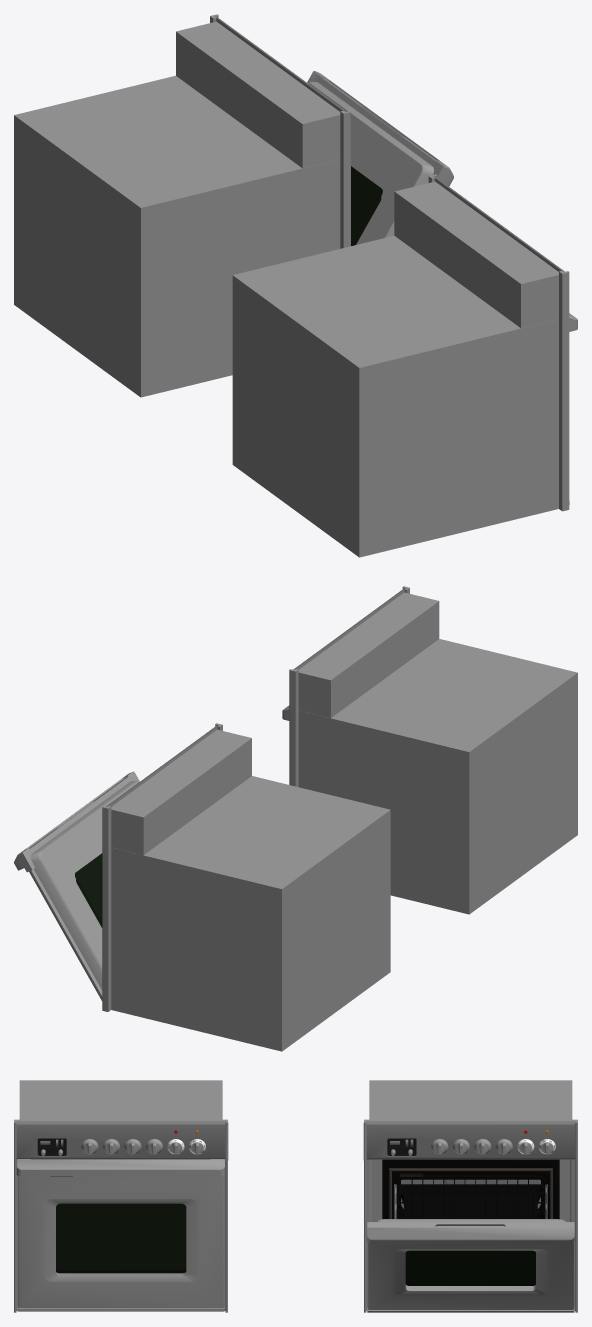
File: wash.FBX
The picture shows the model from 3 angles, top to bottom: view 1: azimuth 30°, elevation 25°; view 2: azimuth 150°, elevation 25°; view 3: azimuth 270°, elevation 25°; orthographic projection. The views are drawn at different scales.
Parts seen in each view (by area): view 1: OVENHOB, OVENHOB001, OVENPANE, OVENPANE001, OVENDOOR001, OVENGLAS001; view 2: OVENHOB001, OVENHOB, OVENPANE, OVENPANE001, OVENDOOR001, OVENGLAS001; view 3: OVENDOOR, OVENDOOR001, OVENPANE001, OVENPANE, OVENHOB001, OVENGLAS, OVENHOB, OVENPAN001, OVENGLAS001, OVENINSA001, OVENINS002, OVENRUBB001 (+8 smaller).
Part boxes in pixels (x1,y1,x2,y2): OVENHOB: (232, 174, 569, 557); OVENHOB001: (14, 14, 350, 397); OVENPANE: (394, 176, 564, 328); OVENPANE001: (176, 16, 345, 168); OVENDOOR001: (307, 71, 453, 244); OVENGLAS001: (351, 166, 382, 245); OVENHOB001: (102, 723, 390, 1051); OVENHOB: (289, 586, 577, 914); OVENPANE: (293, 588, 439, 718); OVENPANE001: (106, 725, 251, 855); OVENDOOR001: (14, 771, 139, 1000); OVENGLAS001: (75, 853, 102, 927); OVENDOOR: (16, 1159, 224, 1311); OVENDOOR001: (366, 1219, 574, 1312); OVENPANE001: (366, 1108, 575, 1159); OVENPANE: (16, 1108, 225, 1159); OVENHOB001: (363, 1080, 577, 1312); OVENGLAS: (56, 1203, 186, 1269); OVENHOB: (14, 1080, 228, 1312); OVENPAN001: (397, 1184, 544, 1218); OVENGLAS001: (405, 1250, 535, 1285); OVENINSA001: (382, 1159, 559, 1219); OVENINS002: (394, 1179, 547, 1218); OVENRUBB001: (389, 1168, 552, 1218).
Bounding box in the file's own units: 1388 × 1008 × 2705.
